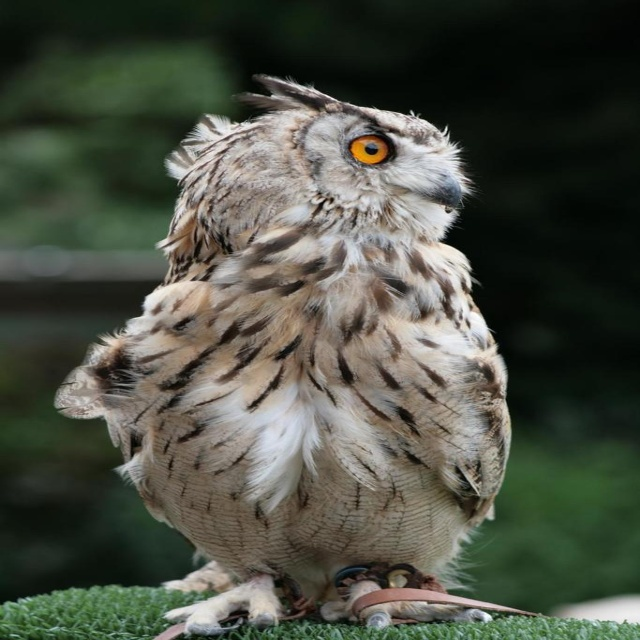Owl: (55, 72, 520, 640)
